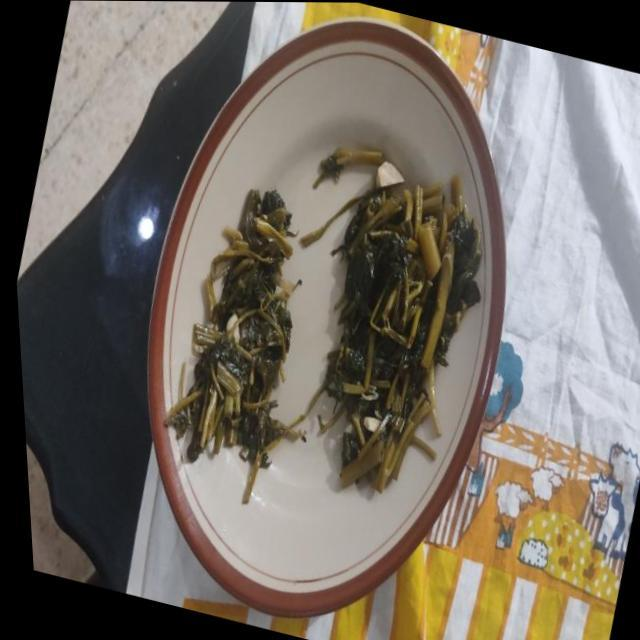tumis_kangkung: (310, 175, 480, 492), (194, 190, 300, 458)
